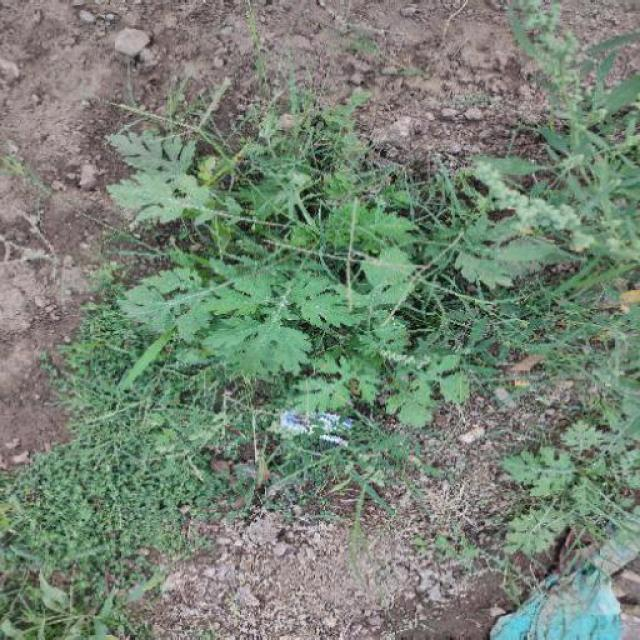weed: (111, 40, 636, 541)
